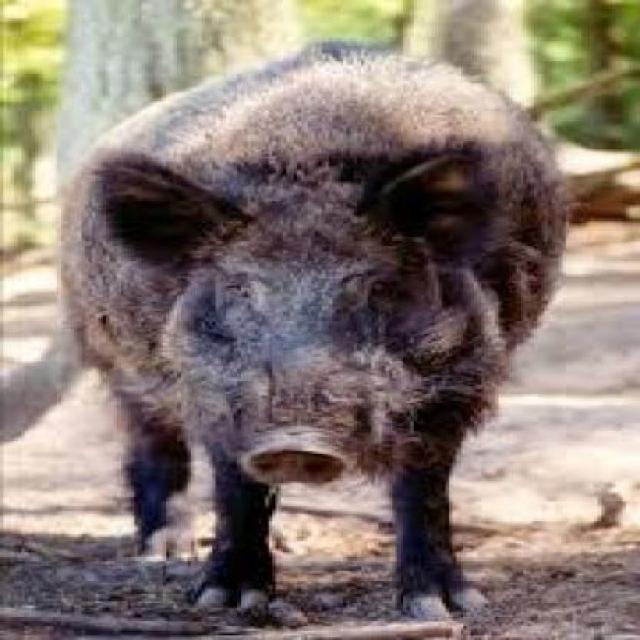wildboar: (53, 36, 573, 629)
